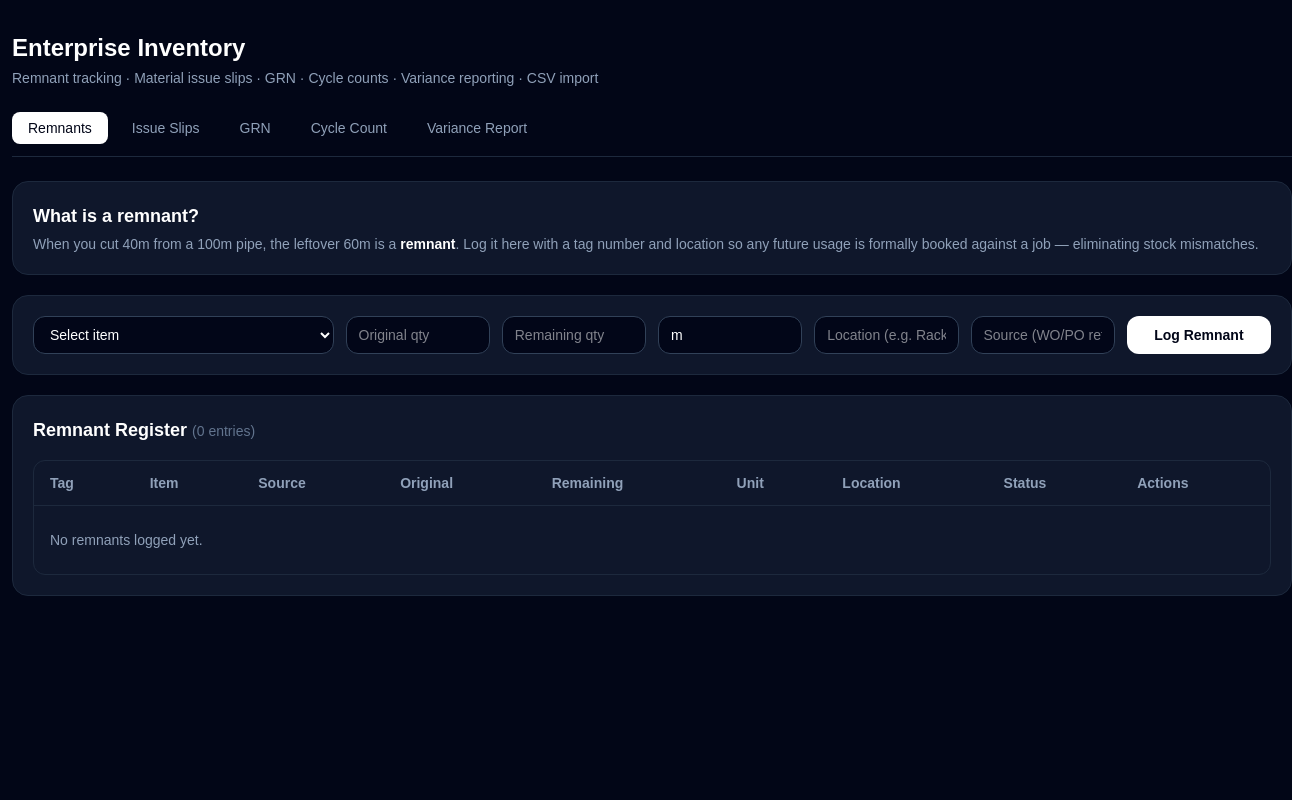
Test: GRN form — the quantities decide the inspection result › offers no inspection-status choice, and shows what 80 of 100 will record
This screenshot has width=1292, height=800.
Step 1. Click the button "GRN" → (255, 128), box left=224, top=112, right=287, bottom=144
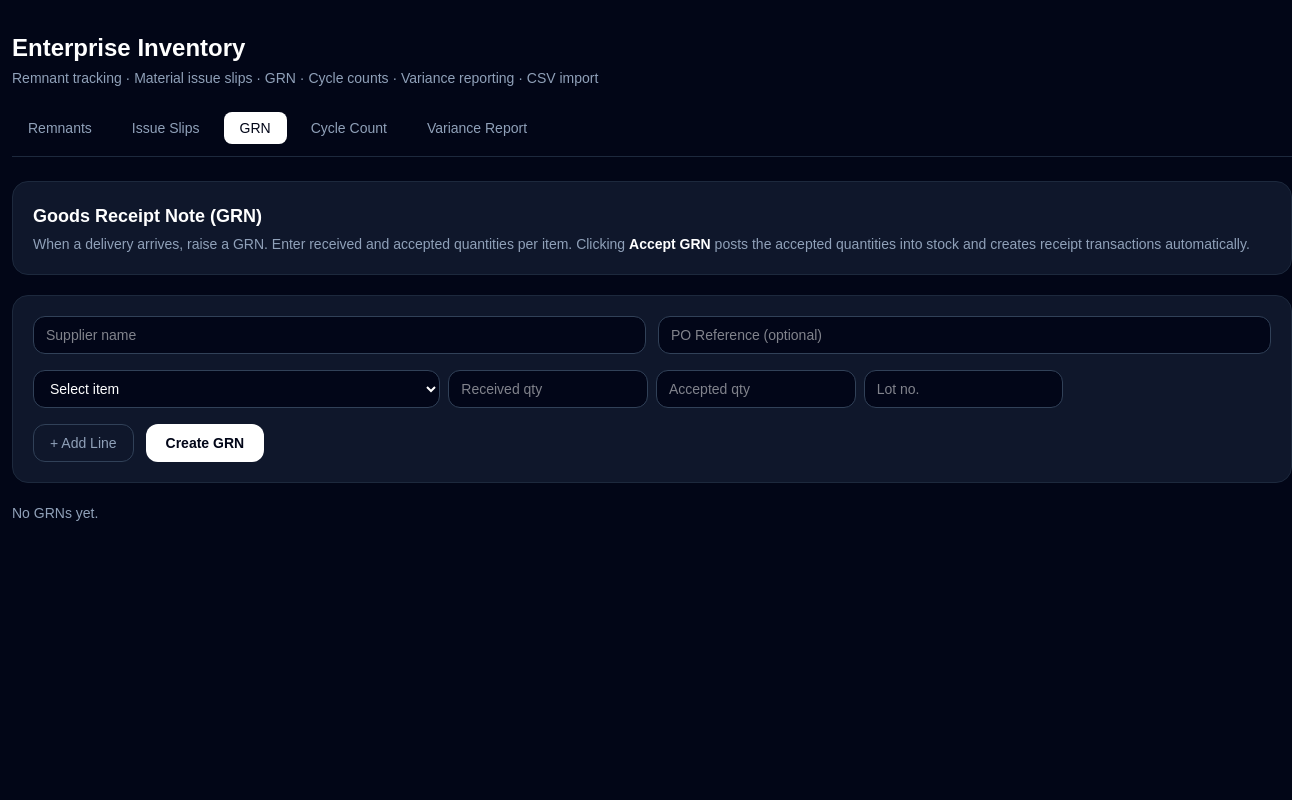
Step 2. Type "Acme" into the field with placeholder "Supplier name" → (340, 335), box left=33, top=316, right=646, bottom=354
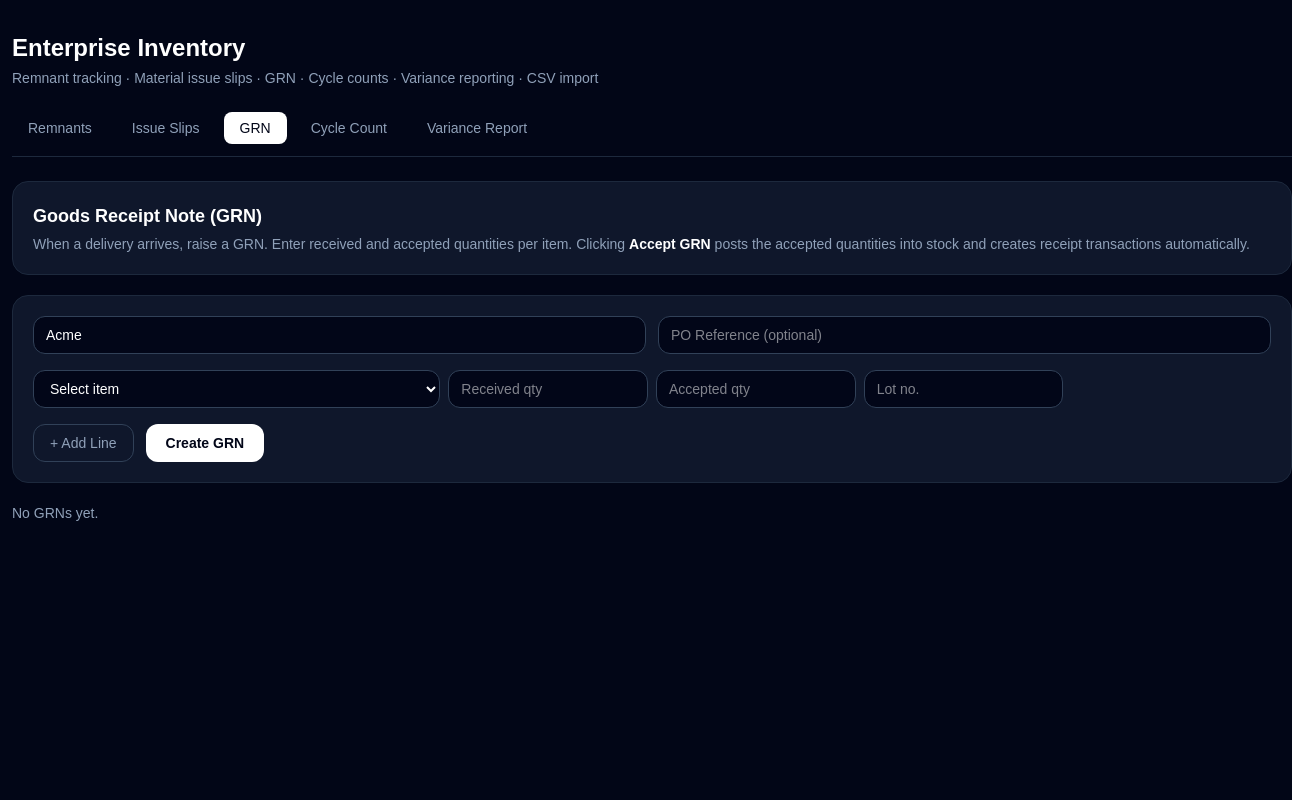
Step 3. Select "BOLT-M8 – Bolt M8" in the dropdown → (237, 389), box left=33, top=370, right=440, bottom=408
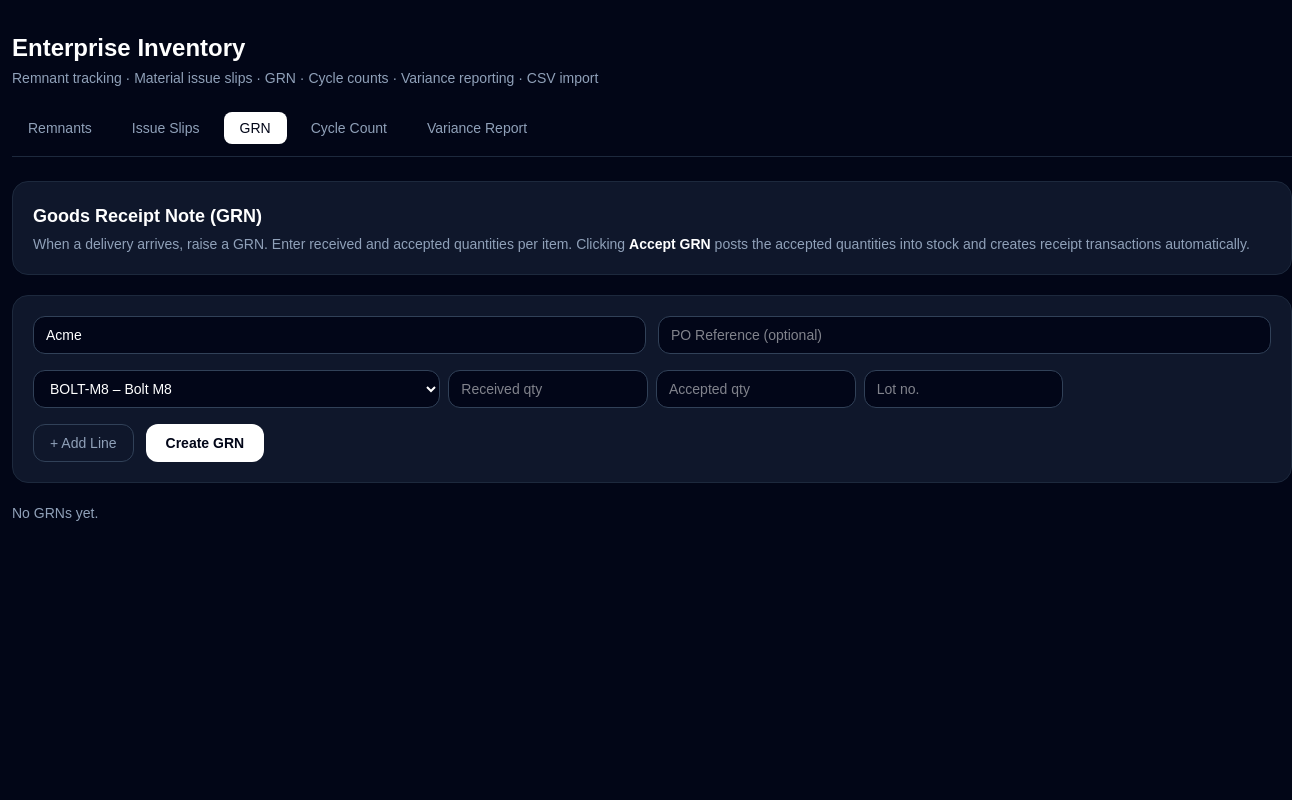
Step 4. Type "100" into the number field with placeholder "Received qty" → (548, 389), box left=448, top=370, right=648, bottom=408
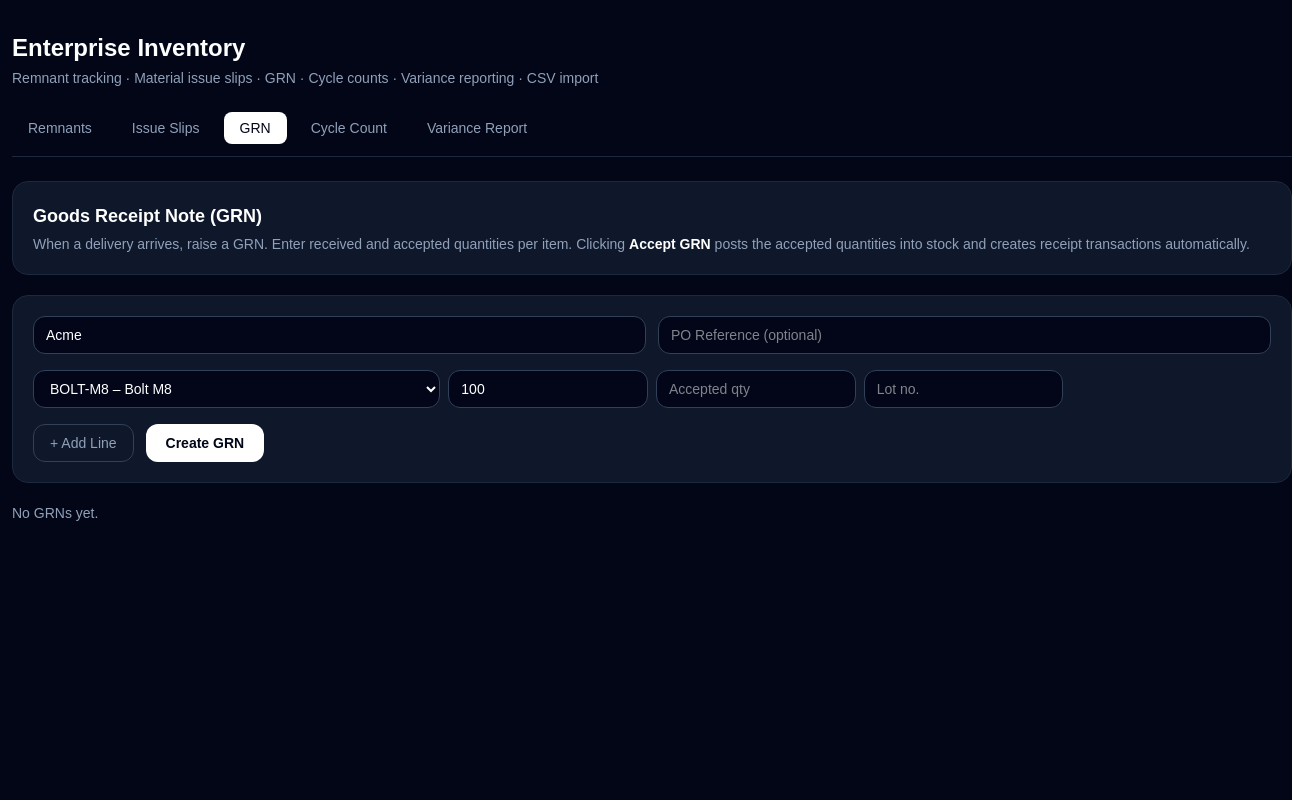
Step 5. Type "80" into the number field with placeholder "Accepted qty" → (756, 389), box left=656, top=370, right=856, bottom=408
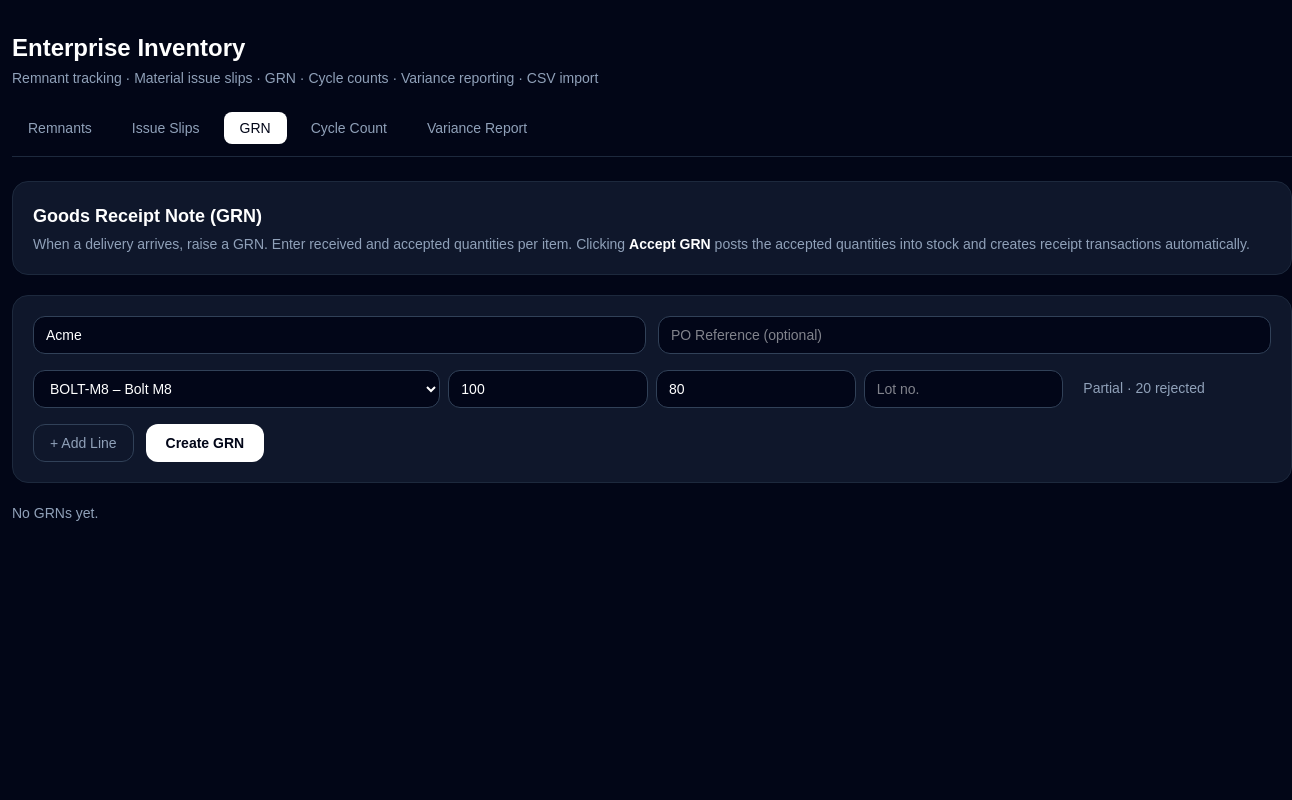
Expected: the text named "Line 1 inspection result" reads "Partial · 20 rejected", left=1083, top=380, right=1205, bottom=396
